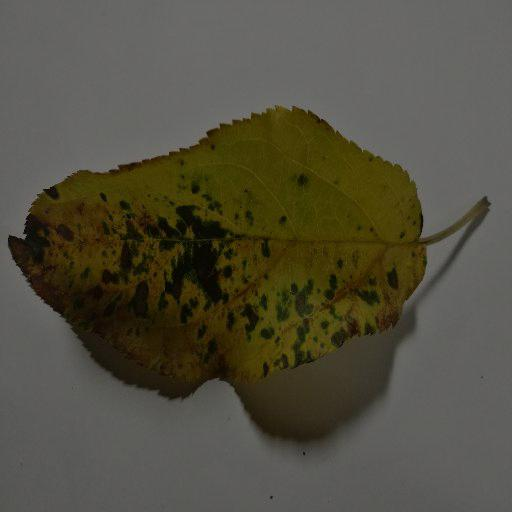Brown_Spot: (42, 182, 395, 359)
